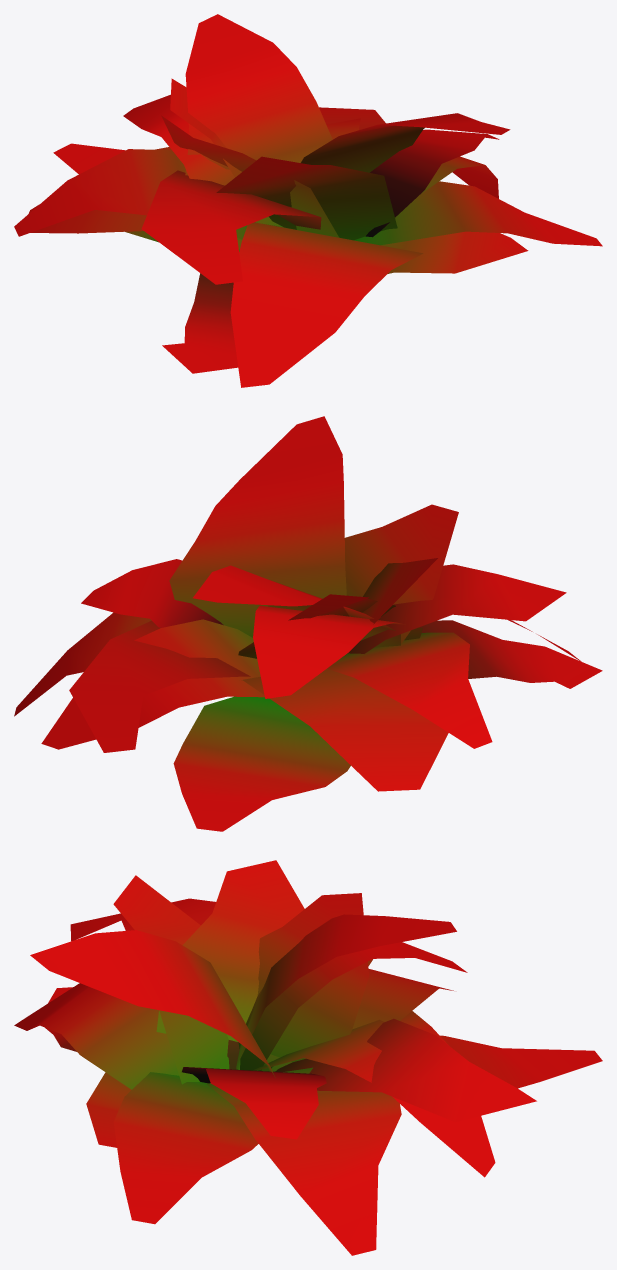
File: Fern_Var3_LOD2.fbx
3 renders of one model, top to bottom at view 1: azimuth 30°, elevation 25°; view 2: azimuth 150°, elevation 25°; view 3: azimuth 270°, elevation 25°, orthographic. The views are drawn at different scales.
Parts seen in each view (by area): view 1: Var3_LOD2; view 2: Var3_LOD2; view 3: Var3_LOD2.
Part boxes in pixels (x1,y1,x2,y2): Var3_LOD2: (14,14,602,387); Var3_LOD2: (14,416,602,831); Var3_LOD2: (14,860,602,1255).
Bounding box in the file's own units: 54.91 × 23.67 × 56.63.
